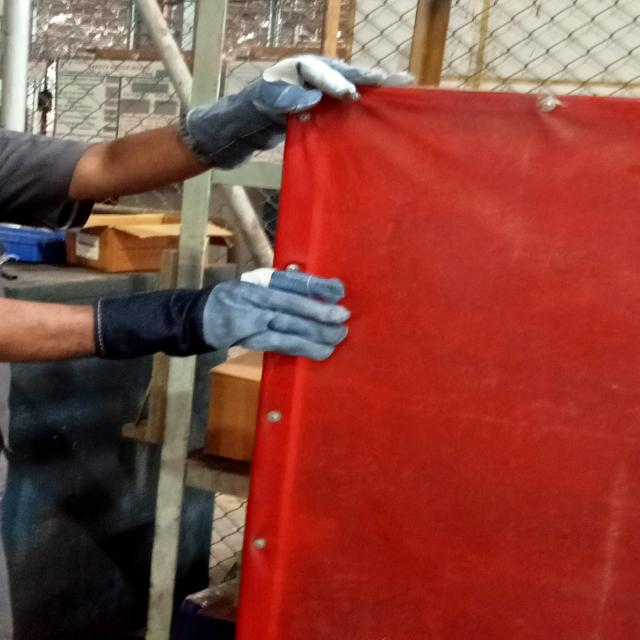Gloves-Detection: (82, 262, 390, 380), (175, 50, 370, 155)
